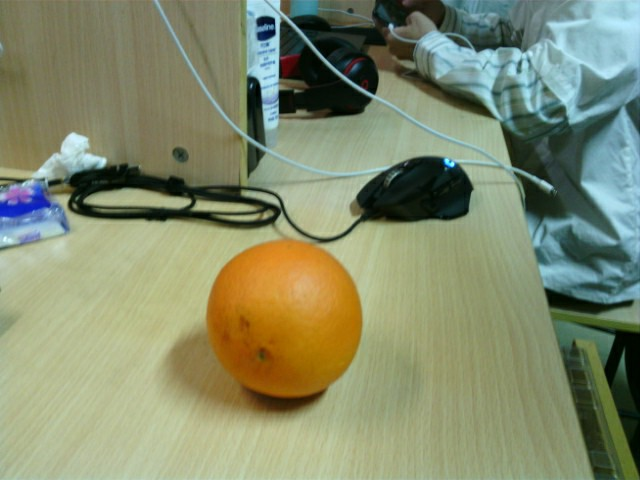normal_orange: (207, 240, 364, 397)
